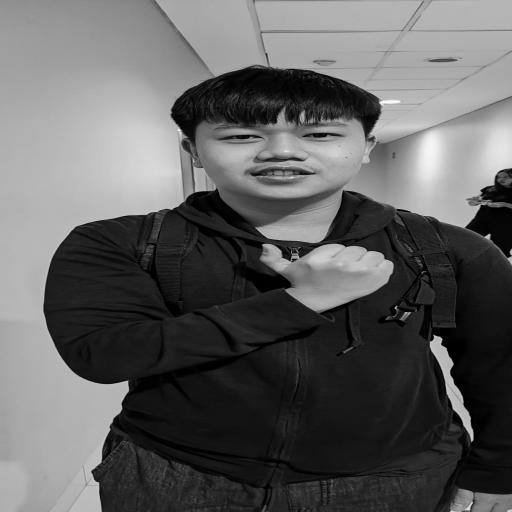back: (234, 226, 444, 323)
